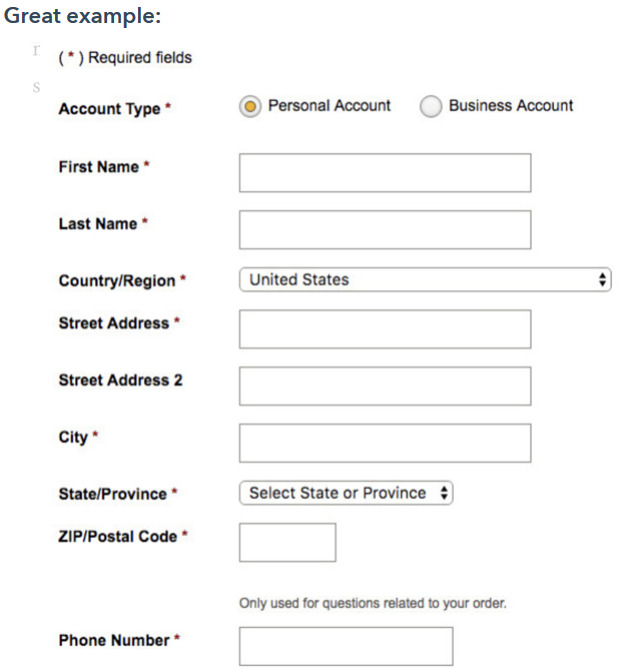_form_: (44, 283, 498, 669), (2, 83, 456, 468), (218, 77, 618, 474)
field: (236, 307, 532, 350), (235, 421, 532, 463), (235, 151, 532, 192), (235, 366, 532, 407), (235, 210, 532, 249), (236, 625, 455, 667), (235, 520, 338, 563)
field_with_label: (61, 304, 534, 352), (59, 149, 533, 195), (58, 206, 536, 251), (60, 419, 533, 464), (60, 364, 534, 408), (58, 622, 456, 666), (59, 263, 614, 294), (60, 519, 342, 564), (55, 477, 455, 508)
radio: (238, 94, 268, 119), (419, 94, 444, 119)
radio_with_label: (416, 91, 577, 122), (234, 90, 395, 120)
select: (239, 266, 612, 293), (239, 479, 453, 506)
